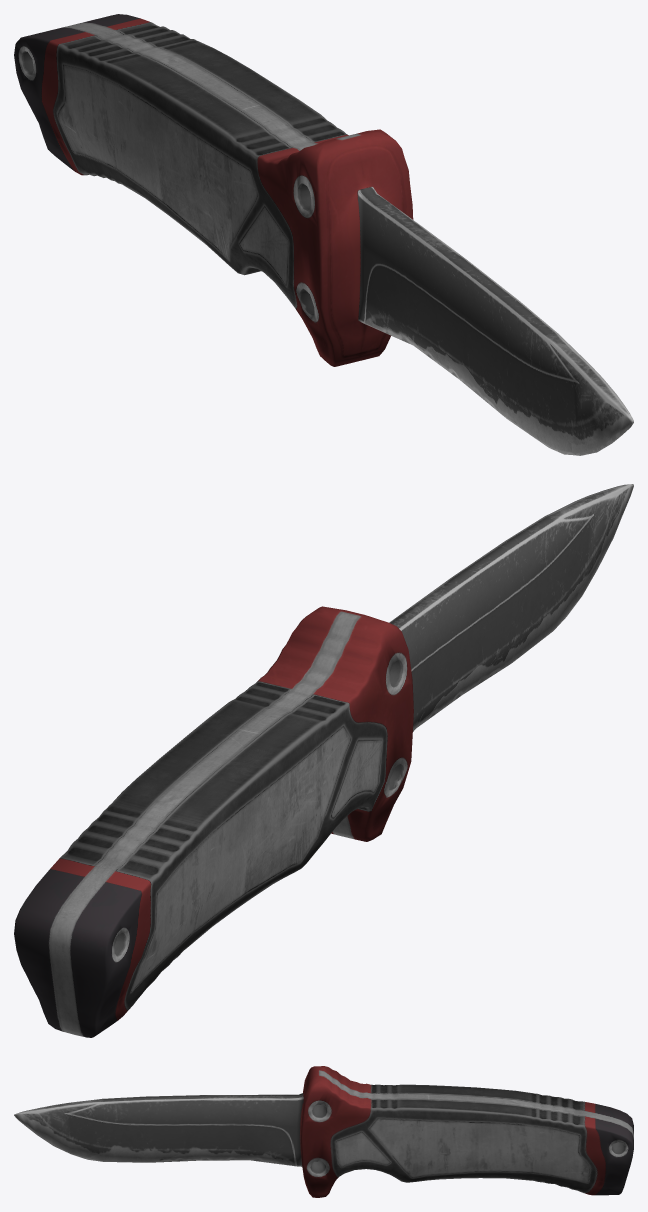
File: knife.fbx
3 renders of one model, top to bottom at view 1: azimuth 30°, elevation 25°; view 2: azimuth 150°, elevation 25°; view 3: azimuth 270°, elevation 25°, orthographic. The views are drawn at different scales.
Parts seen in each view (by area): view 1: g; view 2: g; view 3: g.
Part boxes in pixels (<box>): g: <box>14,14,633,455</box>; g: <box>14,484,633,1037</box>; g: <box>14,1066,633,1197</box>.
Size of the model in its own units: 18.97 by 42.6 by 200.
